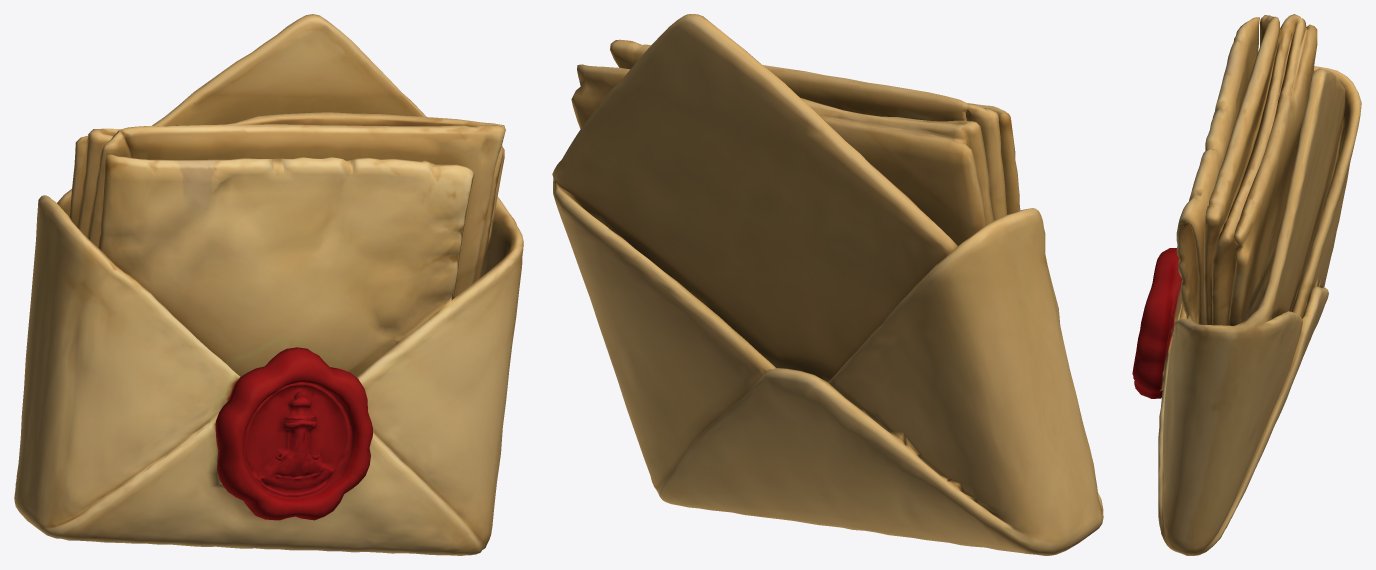
Rendered from grandpa_letter.glb.
3 renders of one model, left to right at view 1: azimuth 30°, elevation 25°; view 2: azimuth 150°, elevation 25°; view 3: azimuth 270°, elevation 25°, orthographic. The views are drawn at different scales.
Parts seen in each view (by area): view 1: tripo_node_ee413cf1-168d-4b2e-bd6c-d95374de1973; view 2: tripo_node_ee413cf1-168d-4b2e-bd6c-d95374de1973; view 3: tripo_node_ee413cf1-168d-4b2e-bd6c-d95374de1973.
Part boxes in pixels (x1,y1,x2,y2): tripo_node_ee413cf1-168d-4b2e-bd6c-d95374de1973: (14,14,523,555); tripo_node_ee413cf1-168d-4b2e-bd6c-d95374de1973: (552,14,1103,555); tripo_node_ee413cf1-168d-4b2e-bd6c-d95374de1973: (1132,14,1361,555).
Bounding box in the file's own units: 0.9752 × 0.979 × 0.4579.
1 material, 1 textured.
